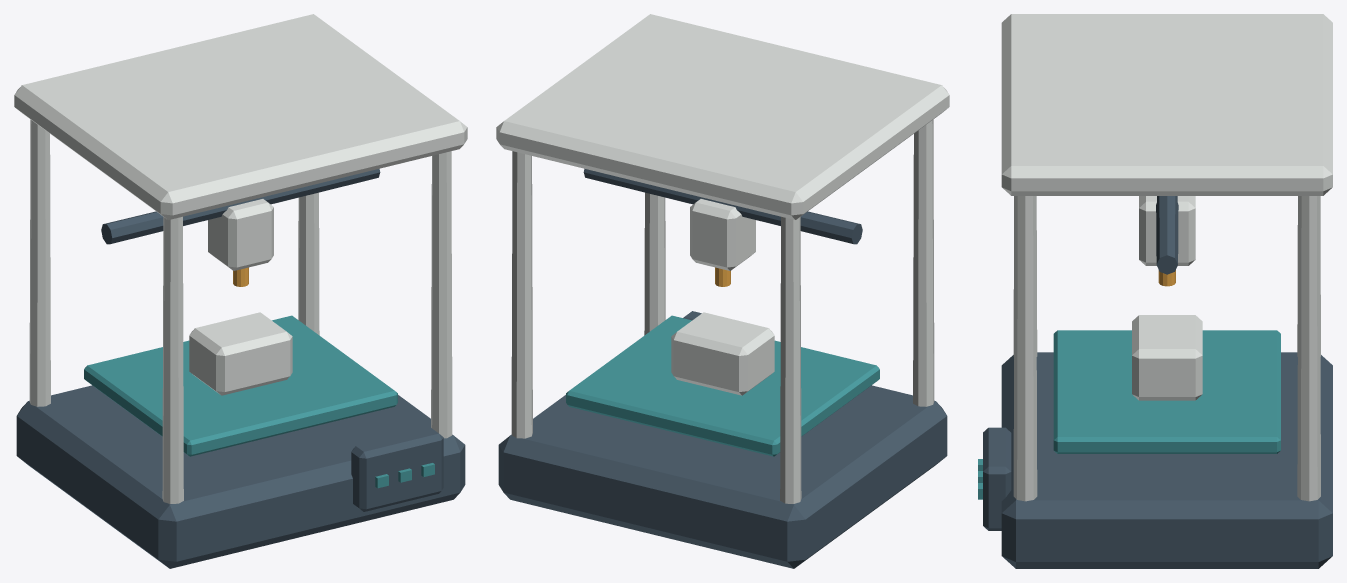
3 renders of one model, left to right at view 1: azimuth 30°, elevation 25°; view 2: azimuth 150°, elevation 25°; view 3: azimuth 270°, elevation 25°, orthographic. The views are drawn at different scales.
Parts seen in each view (by area): view 1: MI-017 Open-frame replacement-part printer batched; view 2: MI-017 Open-frame replacement-part printer batched; view 3: MI-017 Open-frame replacement-part printer batched.
Boxes of the visible parts, bbox=[...] form: MI-017 Open-frame replacement-part printer batched: bbox=[14, 14, 467, 568]; MI-017 Open-frame replacement-part printer batched: bbox=[496, 14, 949, 568]; MI-017 Open-frame replacement-part printer batched: bbox=[978, 14, 1332, 568].
Size of the model in its own units: 0.8 by 0.945 by 0.75.
